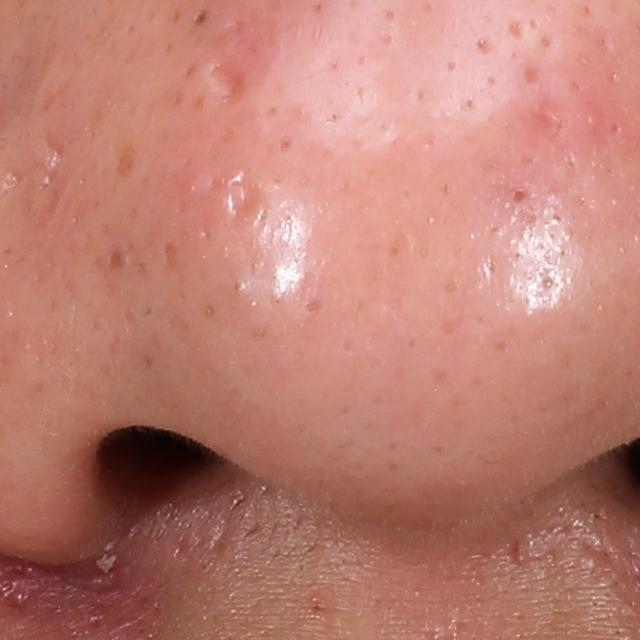atrophic_scar: (202, 62, 254, 108), (37, 122, 67, 192), (227, 168, 265, 222)
comedo: (189, 4, 216, 31), (510, 187, 527, 204)
melasma: (109, 136, 141, 183)
